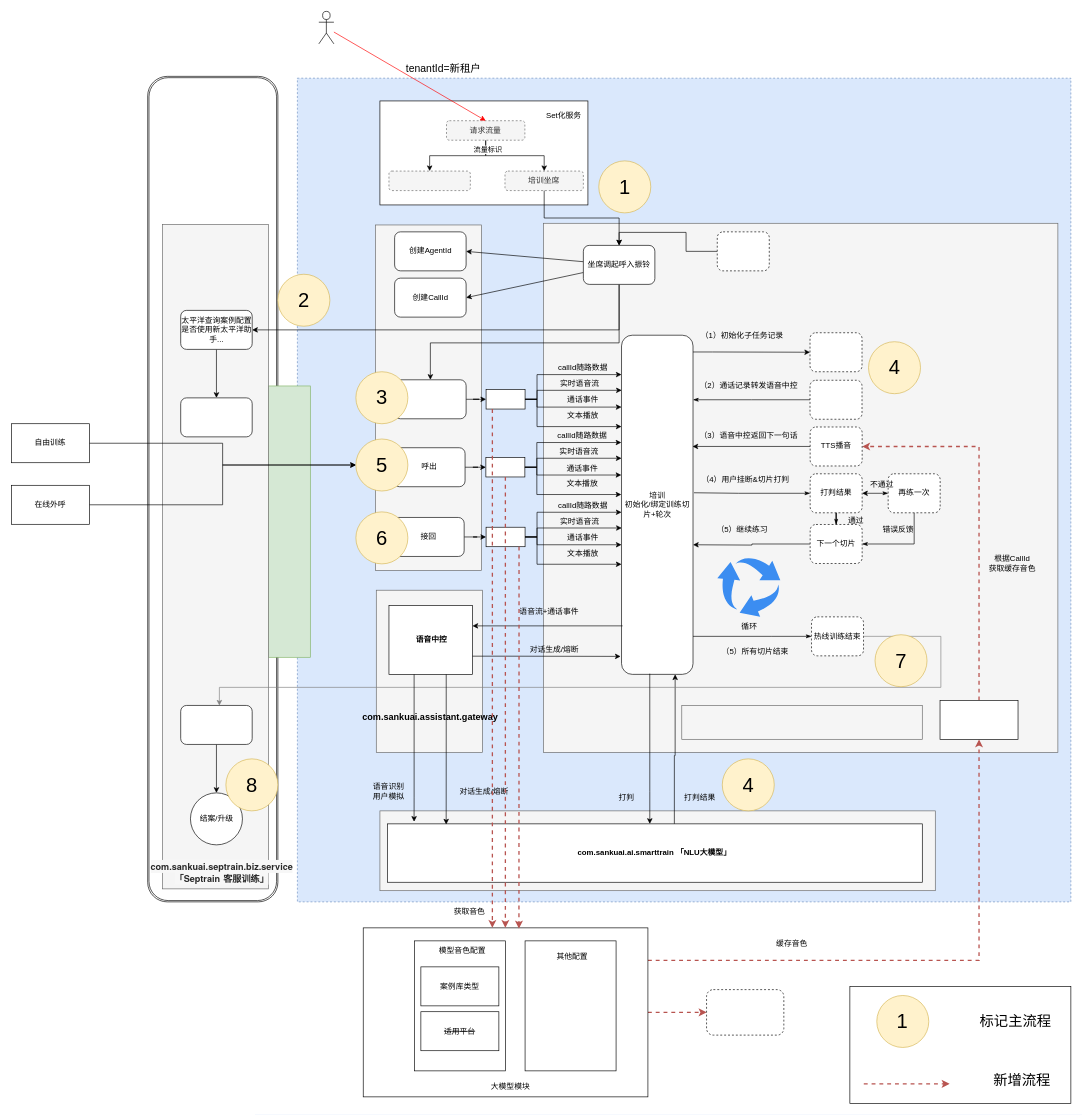
Some shapes in this 1082 by 1115 pixel diagram are drawn without their labels. The shapes that lost their labels are listed below. From the top down, each one's box as (x1, y1, x2, y2) in pixels, then its label:
(318, 11, 334, 44): 坐席签入
(379, 100, 588, 205): 木星 数据隔离 独立培训租户
(388, 170, 470, 191): 太平洋坐席
(717, 231, 769, 271): 案例信息
(809, 332, 862, 372): 子任务记录当前执行轮次
(180, 397, 252, 437): 弹屏
(394, 379, 466, 419): 呼入
(485, 389, 525, 409): 模拟外呼
(809, 380, 862, 419): 转发语音流 ASR
(485, 457, 525, 477): 咨询商家
(147, 76, 278, 902): 太平洋训练工作台
(268, 385, 310, 657): 热线 （call）
(485, 527, 525, 547): 接回外呼
(180, 705, 252, 744): 学习操作视频
(681, 705, 922, 739): com.sankuai.beginning.call 「语音交互通道 」
(939, 700, 1018, 739): 缓存
(706, 989, 784, 1035): 获取音色异常 使用兜底音色
